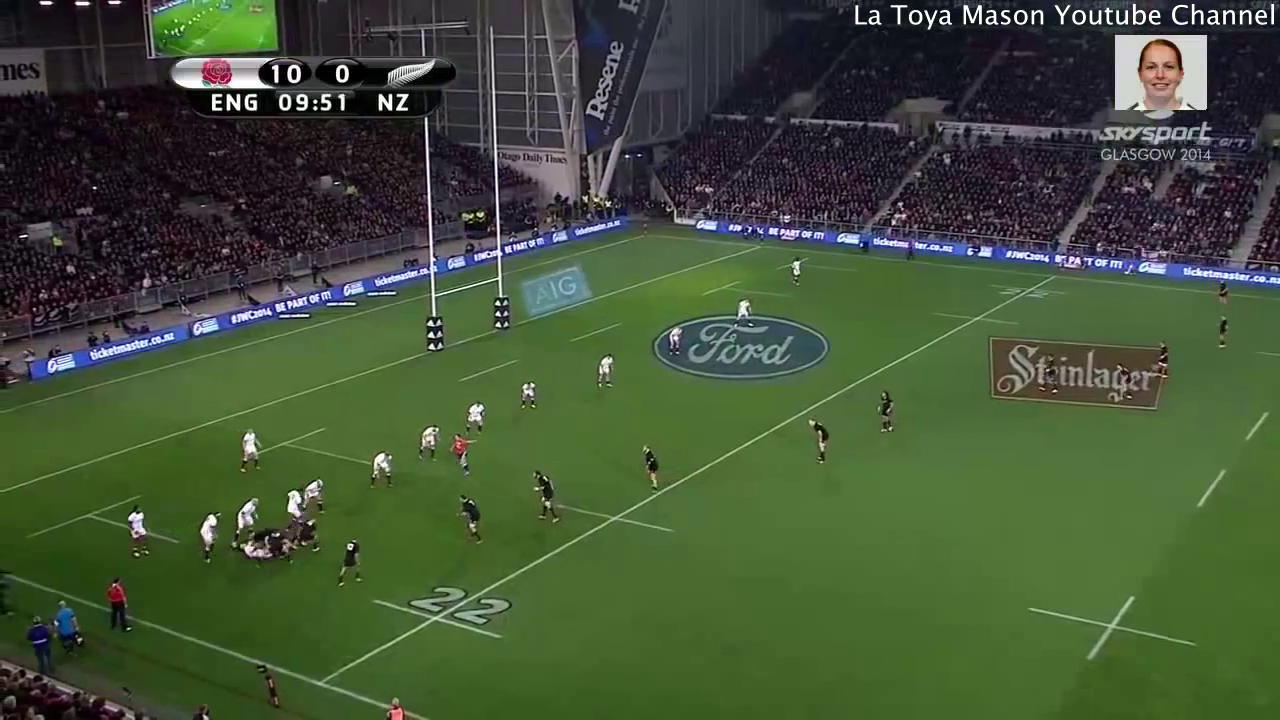10_metre: (1019, 577, 1211, 678)
player: (120, 501, 153, 566), (195, 505, 229, 567), (528, 468, 562, 530), (230, 488, 265, 548), (453, 492, 488, 548), (233, 424, 269, 476), (446, 430, 483, 480), (334, 535, 365, 594), (801, 413, 833, 466), (299, 469, 330, 520), (412, 417, 443, 468), (639, 442, 664, 501), (1035, 350, 1063, 402), (368, 445, 399, 491), (874, 386, 899, 440), (461, 395, 488, 443), (263, 525, 297, 563), (594, 350, 619, 392), (1150, 338, 1174, 381), (1113, 360, 1135, 405), (1211, 311, 1234, 354), (281, 481, 304, 523), (517, 377, 543, 414), (294, 514, 318, 550), (730, 292, 754, 326), (239, 541, 271, 563), (786, 254, 805, 290), (666, 323, 683, 357), (1215, 278, 1231, 309)
post: (410, 5, 517, 357)
